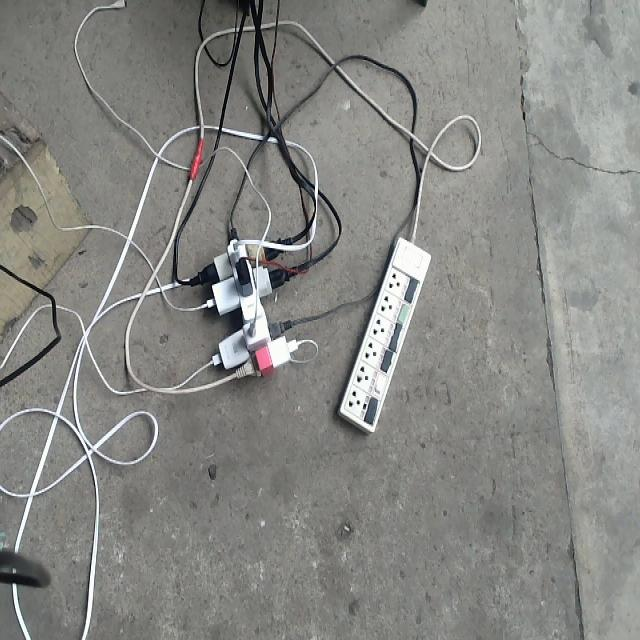-: (158, 190, 339, 422)
